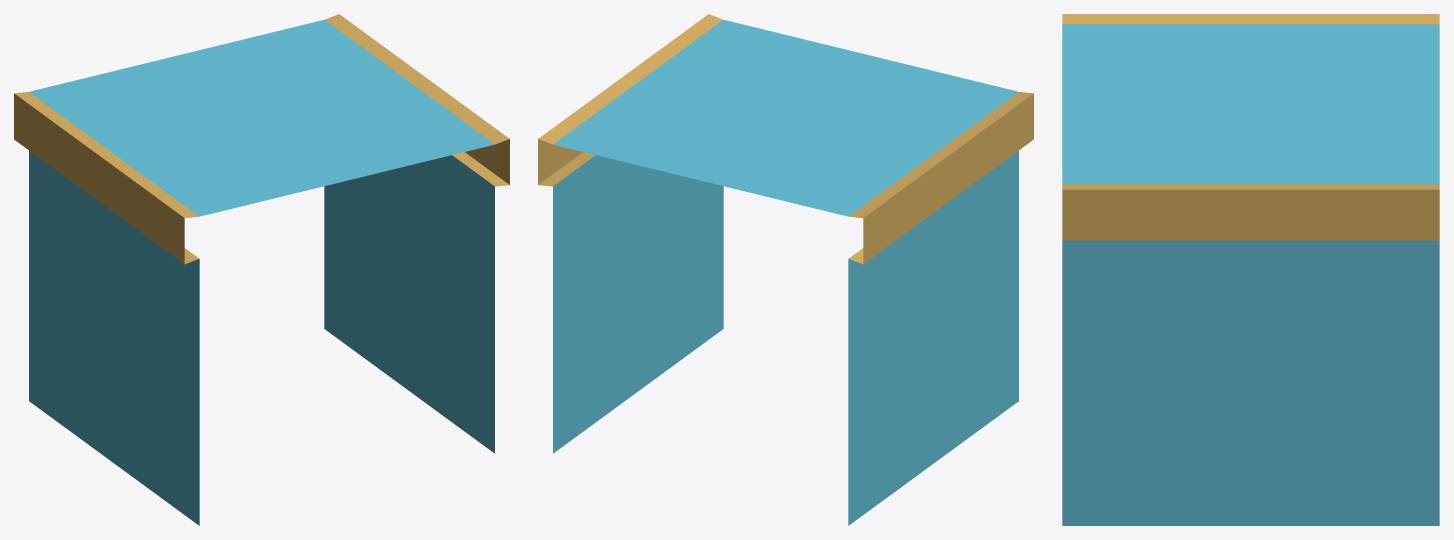
The model's file is SmallTH_Roof_Middle.fbx.
The picture shows the model from 3 angles, left to right: view 1: azimuth 30°, elevation 25°; view 2: azimuth 150°, elevation 25°; view 3: azimuth 270°, elevation 25°; orthographic projection. The views are drawn at different scales.
Visible parts, largest first — view 1: SmallTH_Roof_Middle; view 2: SmallTH_Roof_Middle; view 3: SmallTH_Roof_Middle.
Part boxes in pixels (x1,y1,x2,y2): SmallTH_Roof_Middle: (14,14,509,525); SmallTH_Roof_Middle: (538,14,1033,525); SmallTH_Roof_Middle: (1062,14,1439,525).
Size of the model in its own units: 2.2 by 2.01 by 2.
